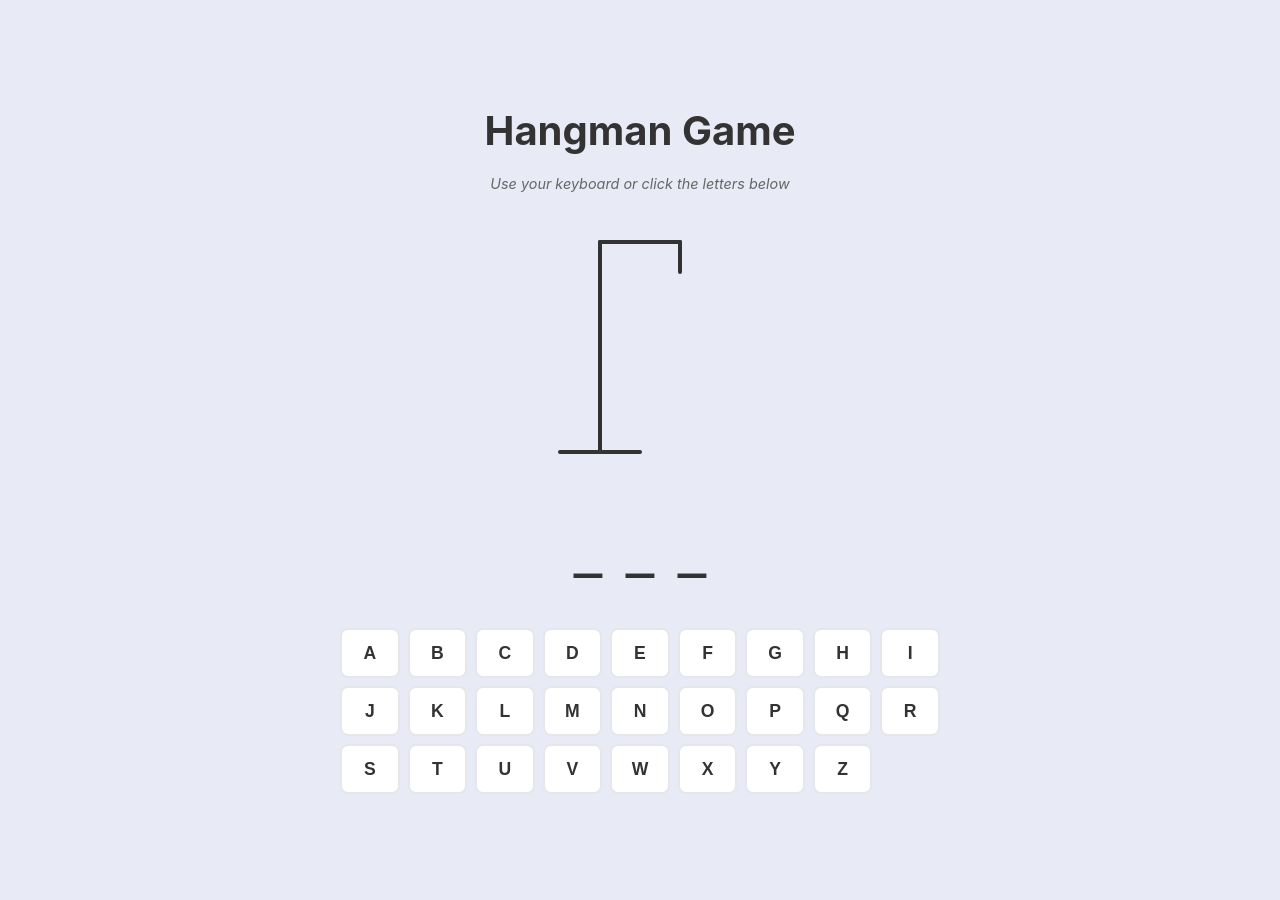
Hangman Game Integration › should complete a losing game flow
The width and height of the screenshot is (1280, 900).
Click the button named "Letter X". click: (708, 769)
box: [678,744,737,794]
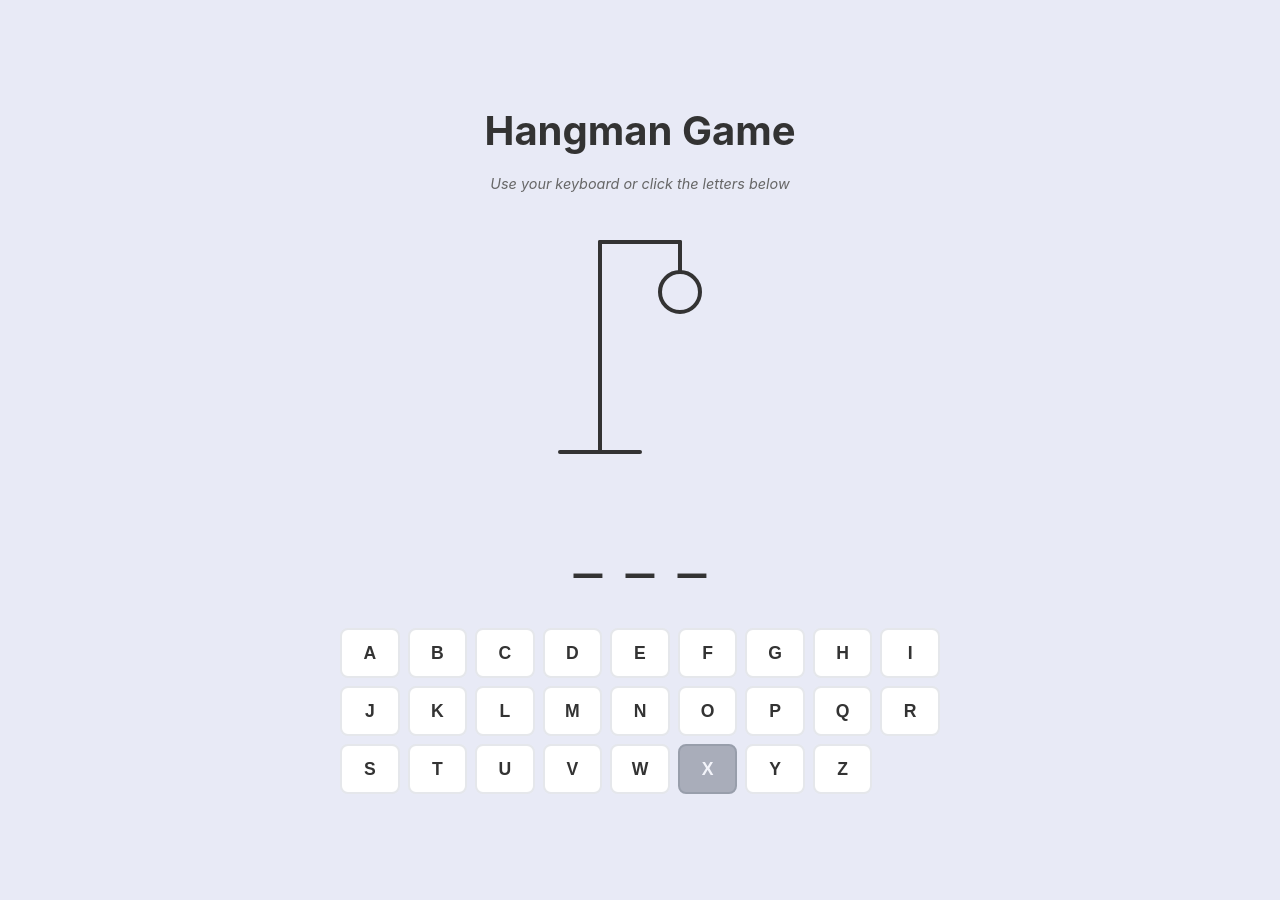
Click the button "Y". click: (775, 769)
box: [745,744,805,794]
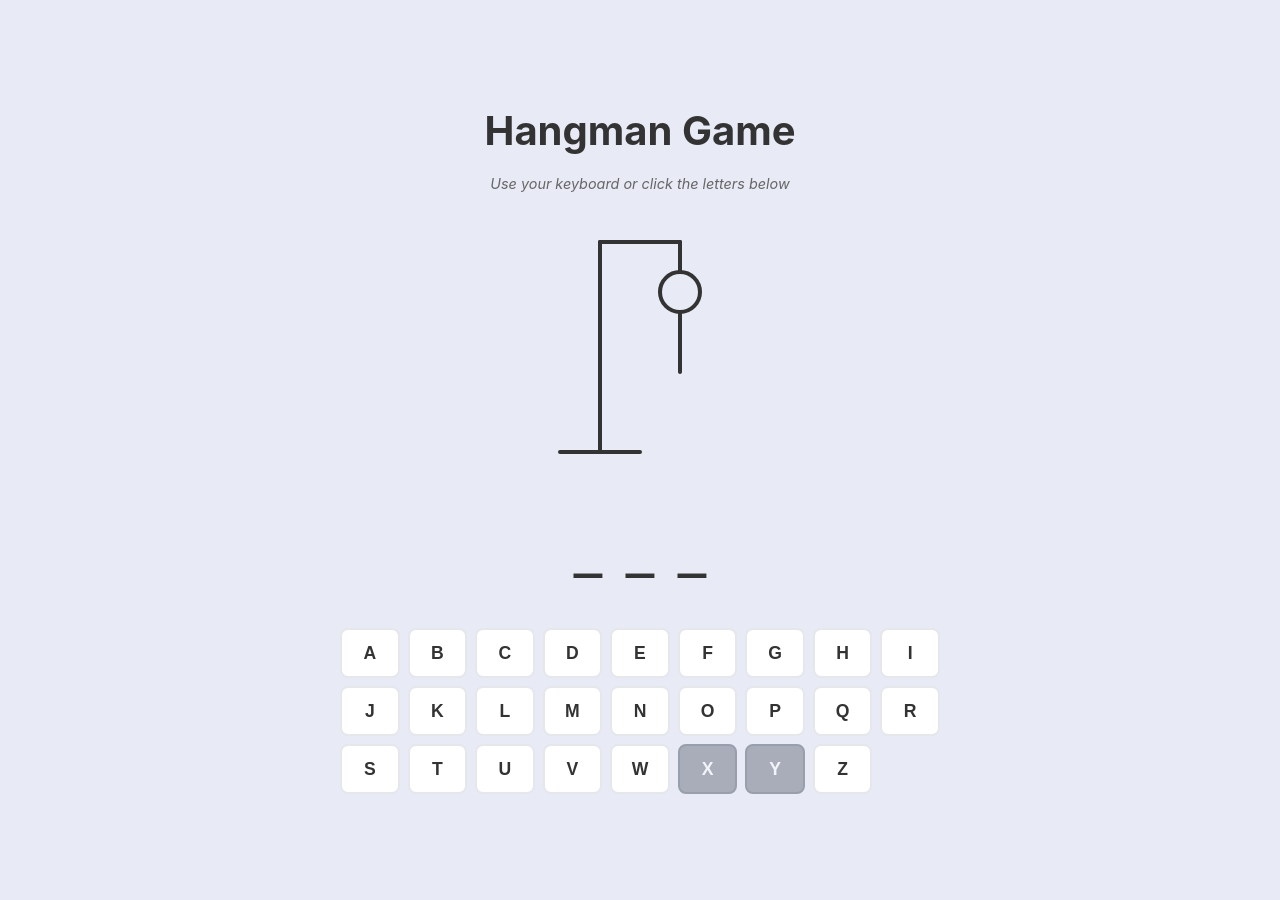
Click the button "Z". click: (843, 769)
box: [813,744,872,794]
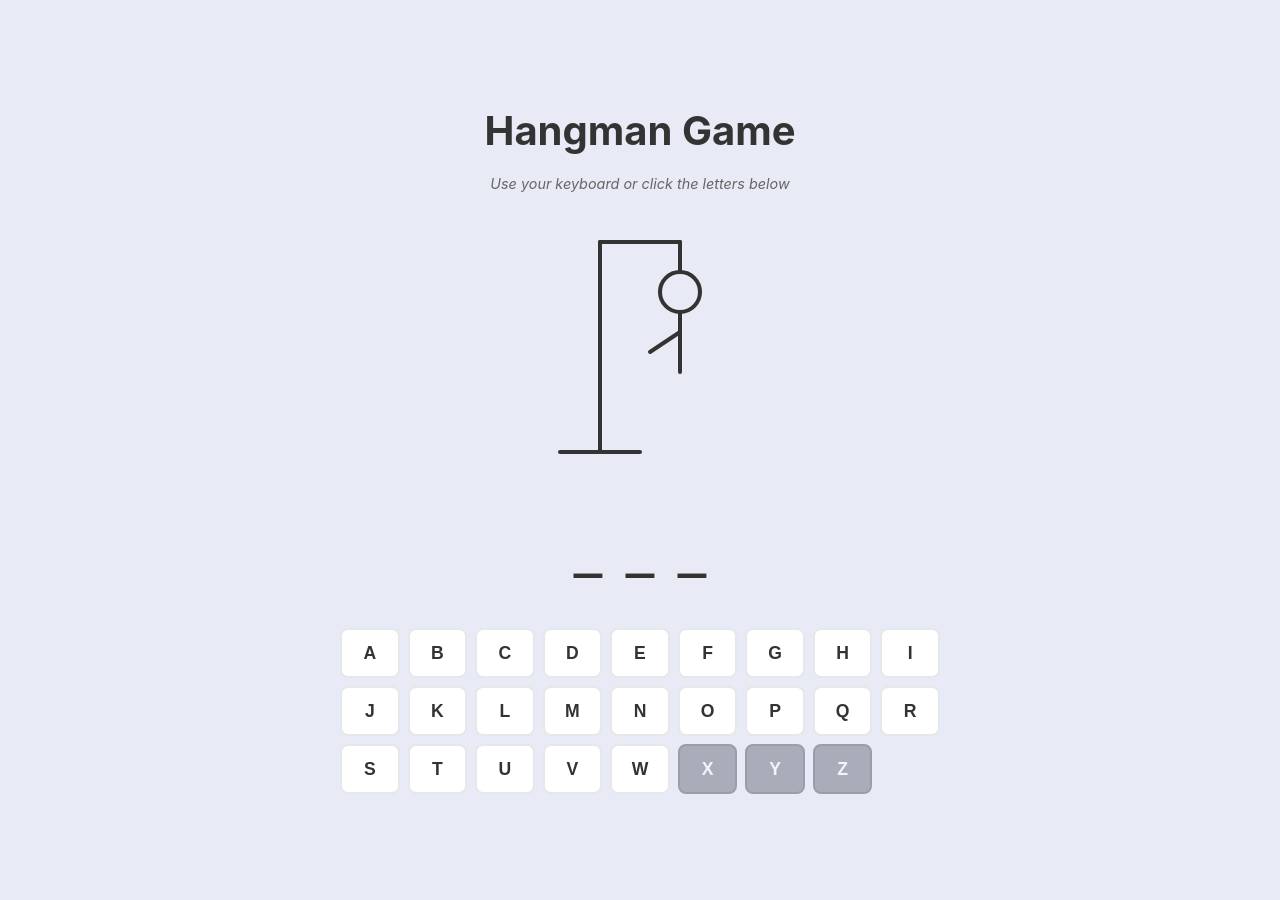
Click the button "Q". click: (843, 711)
box: [813,686,872,736]
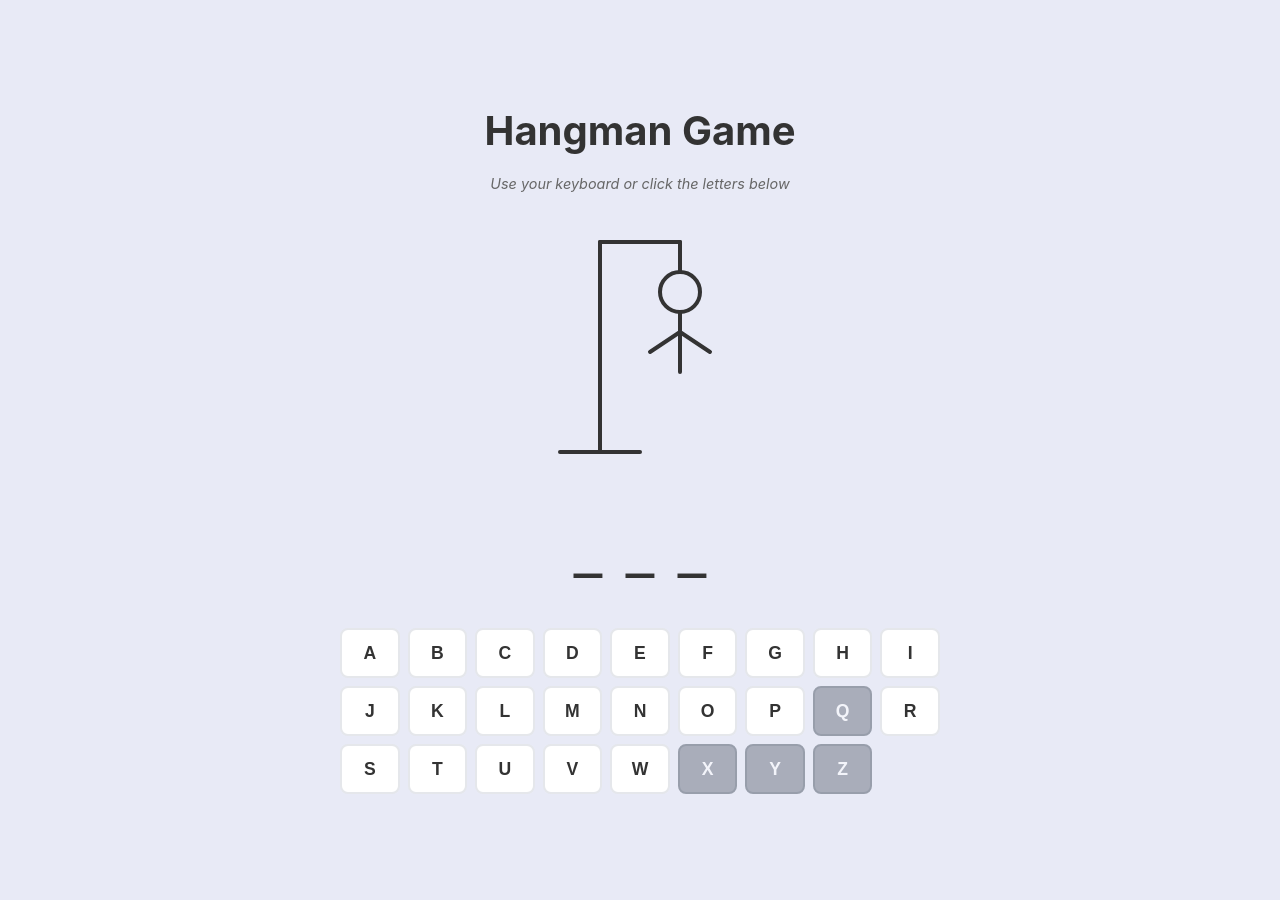
Click the button "W". click: (640, 769)
box: [610,744,670,794]
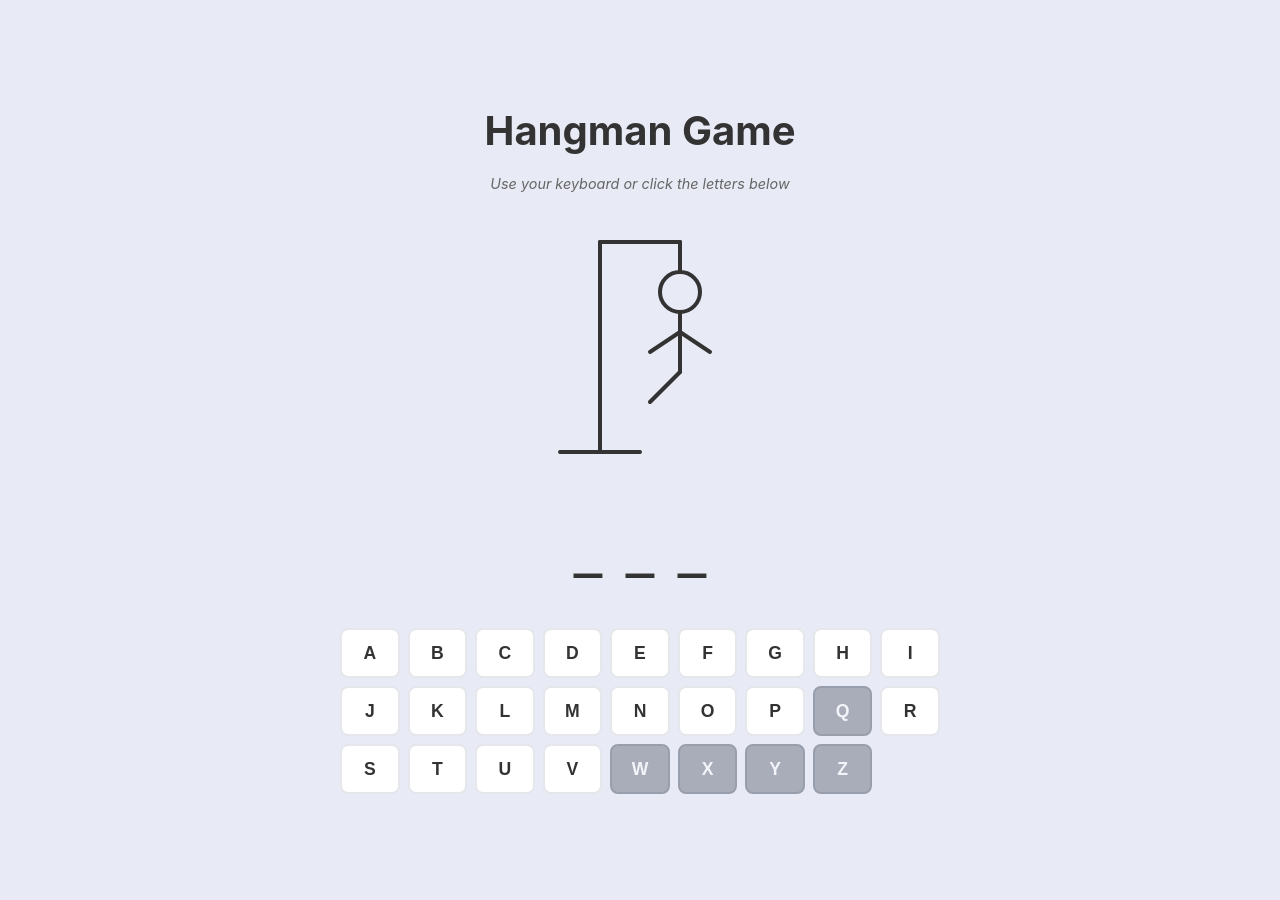
Click the button "R". click: (910, 711)
box: [880,686,940,736]
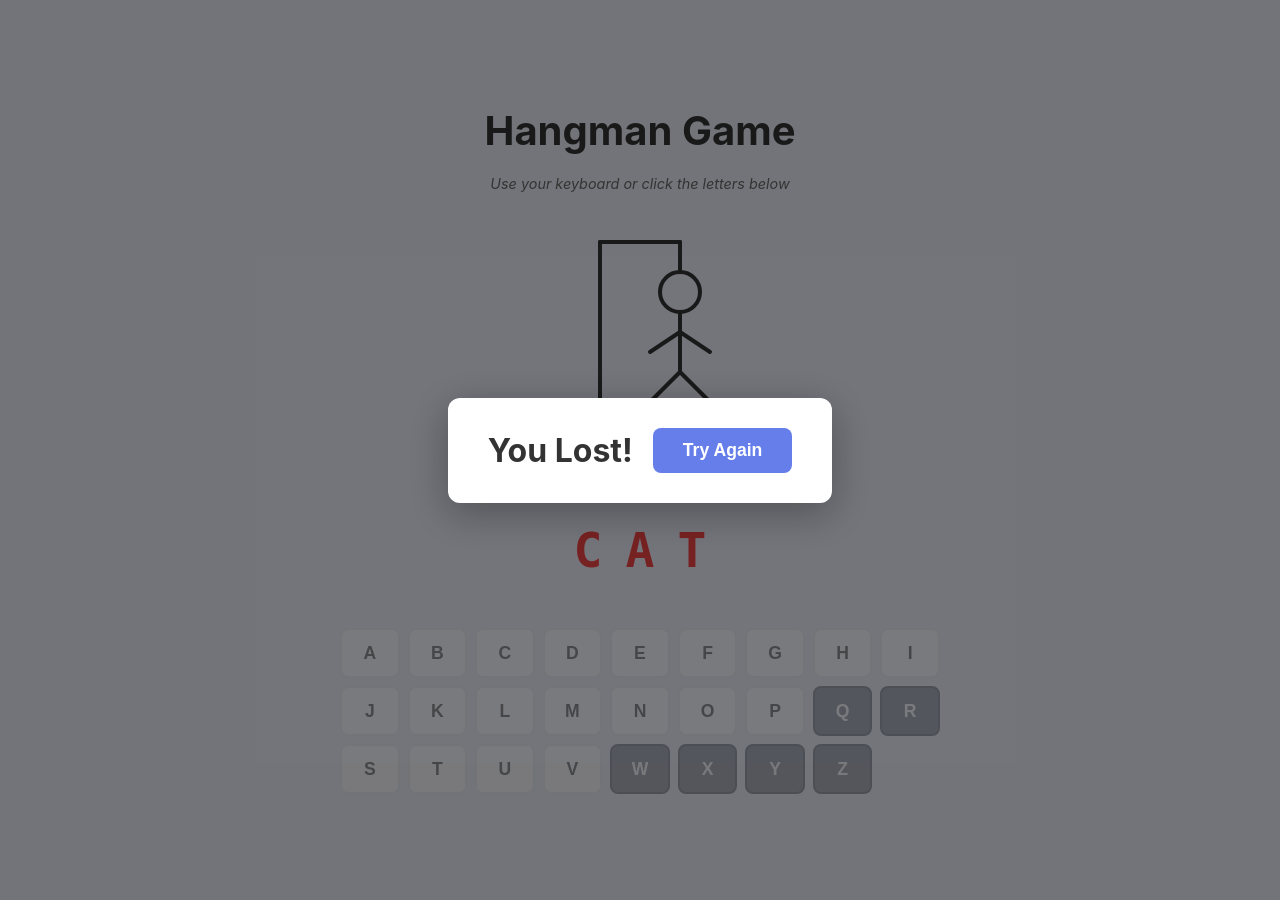
Now the heading "You Lost!" is shown, box [488,430,633,470]
Now the button with aria-label "start a new game" is shown, box [653,428,792,472]
